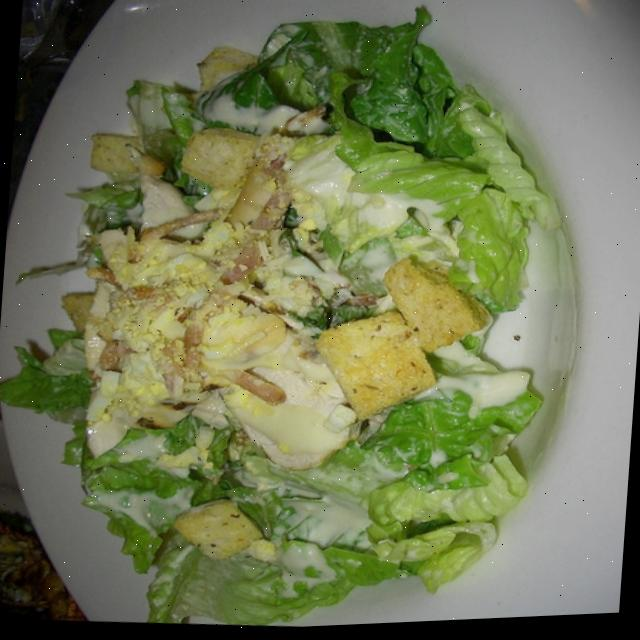蔬菜料理: (1, 0, 629, 640)
